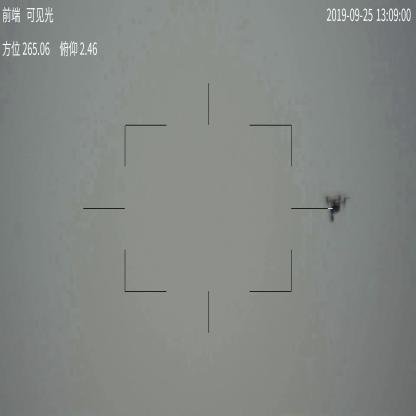uav: (323, 193, 347, 223)
